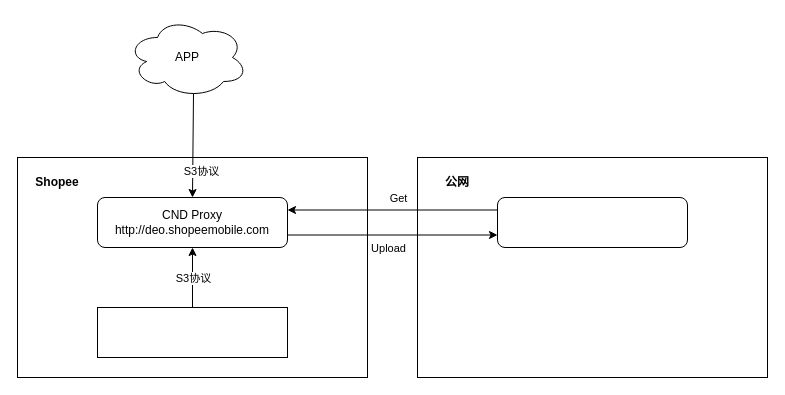
This 785x395 diagram has some shape labels left out. Here are the shapes that lost their labels. From the top down, the box of each, then its label:
(496, 196, 688, 248): Akamai CDN
(96, 306, 288, 358): DP
